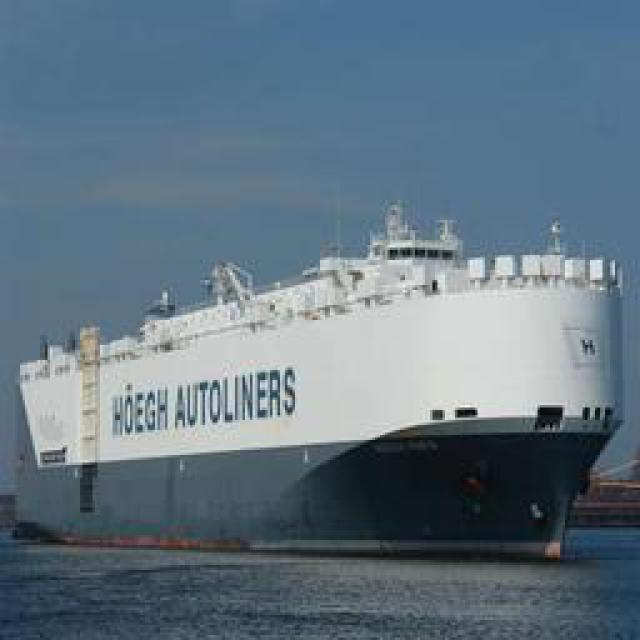Ship: (18, 202, 640, 555)
